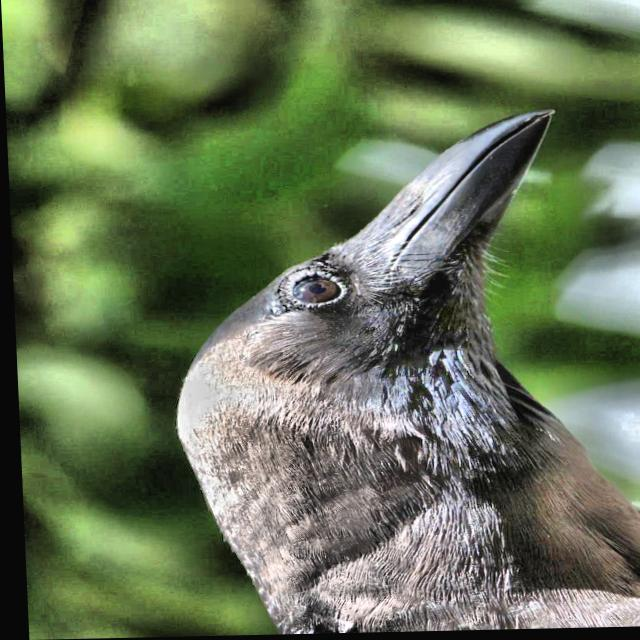crow: (115, 64, 640, 638)
